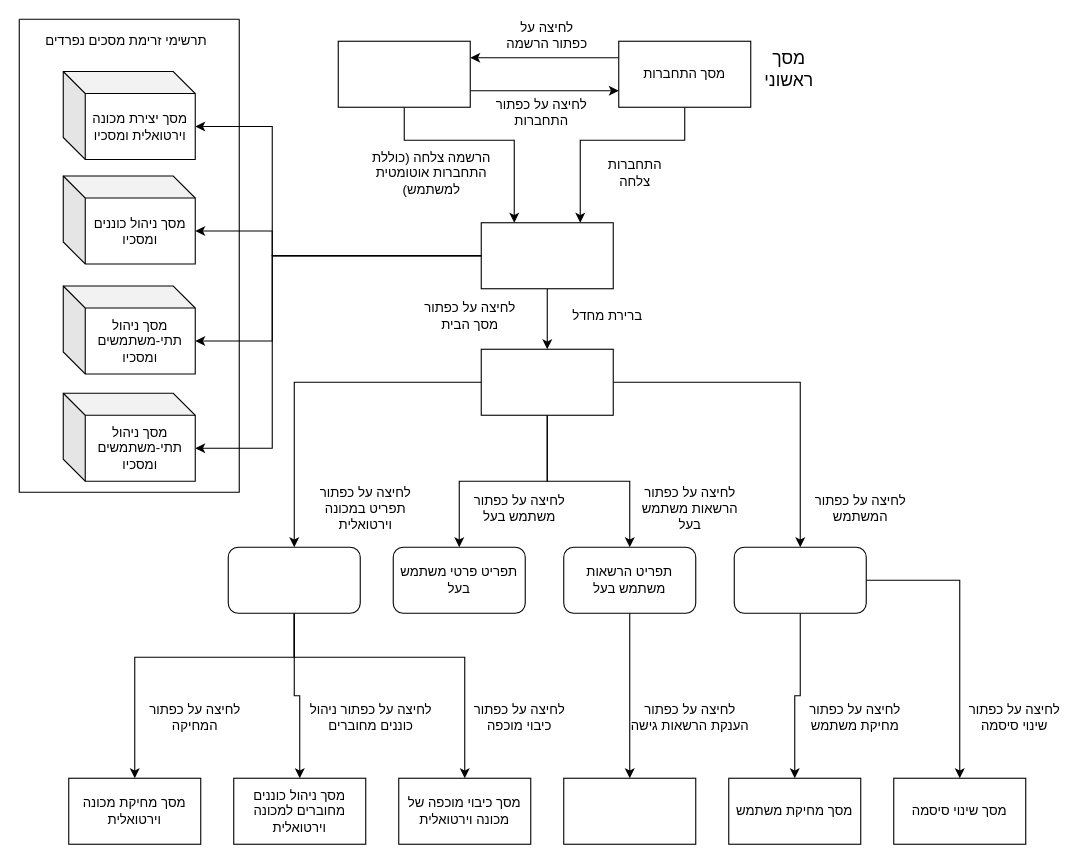
Some shapes in this 1084 by 864 pixel diagram are drawn without their labels. Each missing label, with the box of its shape:
מסך הבית: (480, 348, 613, 415)
מסך הענקת הרשאות גישה למשתמש בעל: (563, 777, 696, 844)
מסך הרשמה: (337, 40, 470, 107)
מסך ראשי: (480, 222, 613, 289)
תפריט מכונה וירטואלית: (227, 546, 360, 613)
תפריט משתמש: (733, 546, 866, 613)
